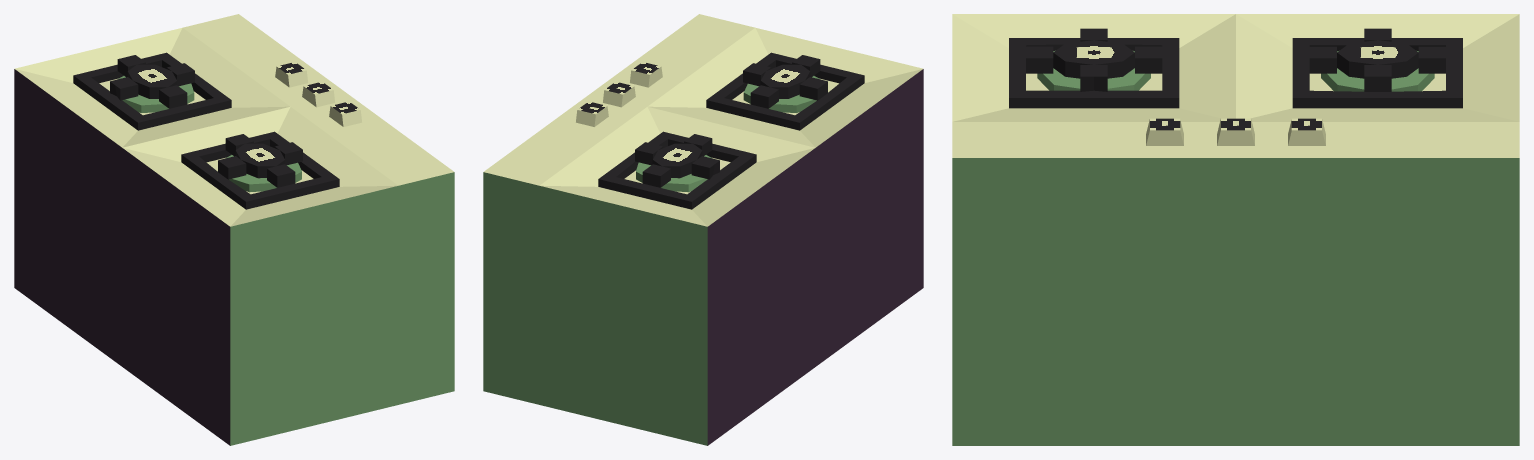
The model's file is hob-tex.glb.
3 views of the same model, side by side, from view 1: azimuth 30°, elevation 25°; view 2: azimuth 150°, elevation 25°; view 3: azimuth 270°, elevation 25° (orthographic). The views are drawn at different scales.
Parts seen in each view (by area): view 1: Cube; view 2: Cube; view 3: Cube.
Part boxes in pixels (box(x1,y1,x2,y2)): Cube: box(14, 14, 454, 445); Cube: box(483, 14, 923, 445); Cube: box(952, 14, 1519, 445).
Size of the model in its own units: 6 by 5.9 by 10.
Materials: 1 (1 with a texture image).
